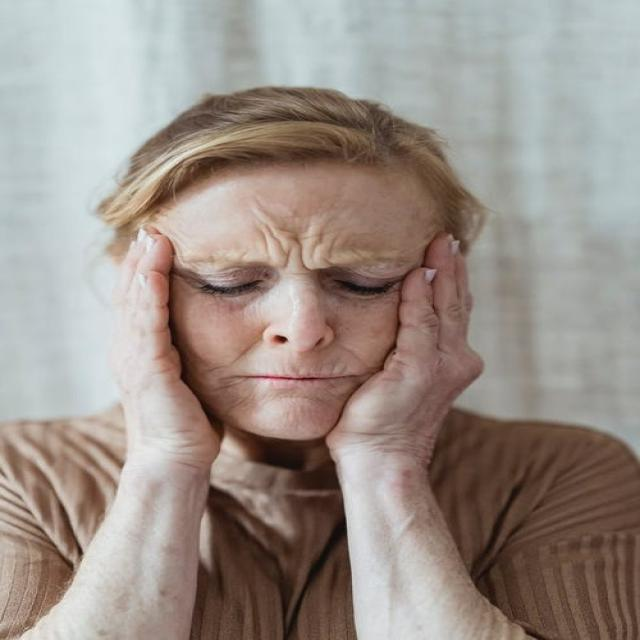Wrinkles: (282, 231, 309, 272), (229, 342, 257, 365), (266, 226, 287, 256), (310, 232, 323, 266), (327, 235, 337, 260), (261, 232, 269, 258), (353, 353, 367, 367), (286, 249, 291, 268), (337, 345, 347, 350), (347, 350, 353, 353)
